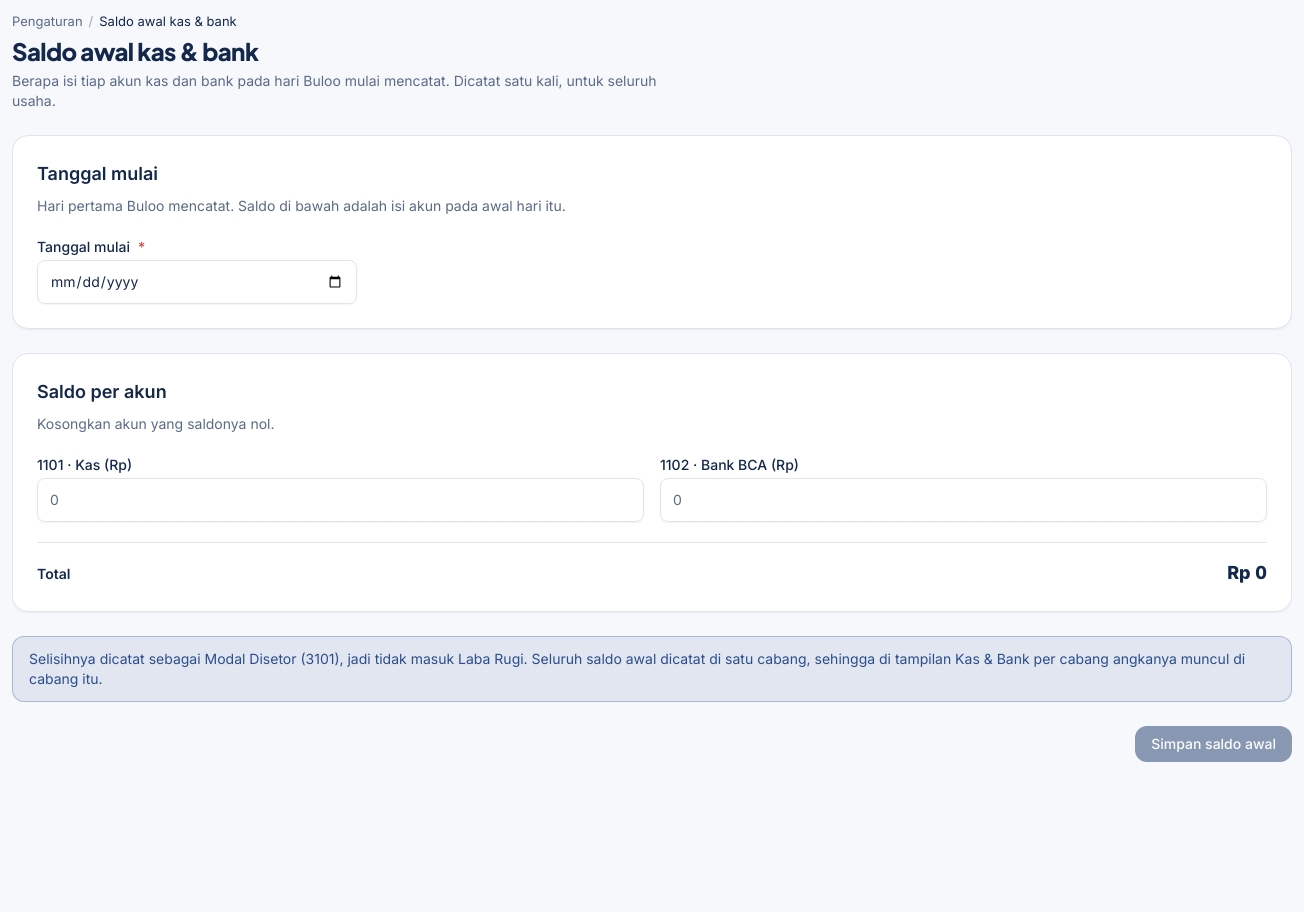
Test: CashBankOpeningScreen › strips anything but digits and one decimal point, keeping two decimals
The image size is (1304, 912).
Type "Rp 1.5a00" into the field labelled "1101 · Kas (Rp)" at point(340, 500), box top-left (37, 478), bottom-right (644, 522)
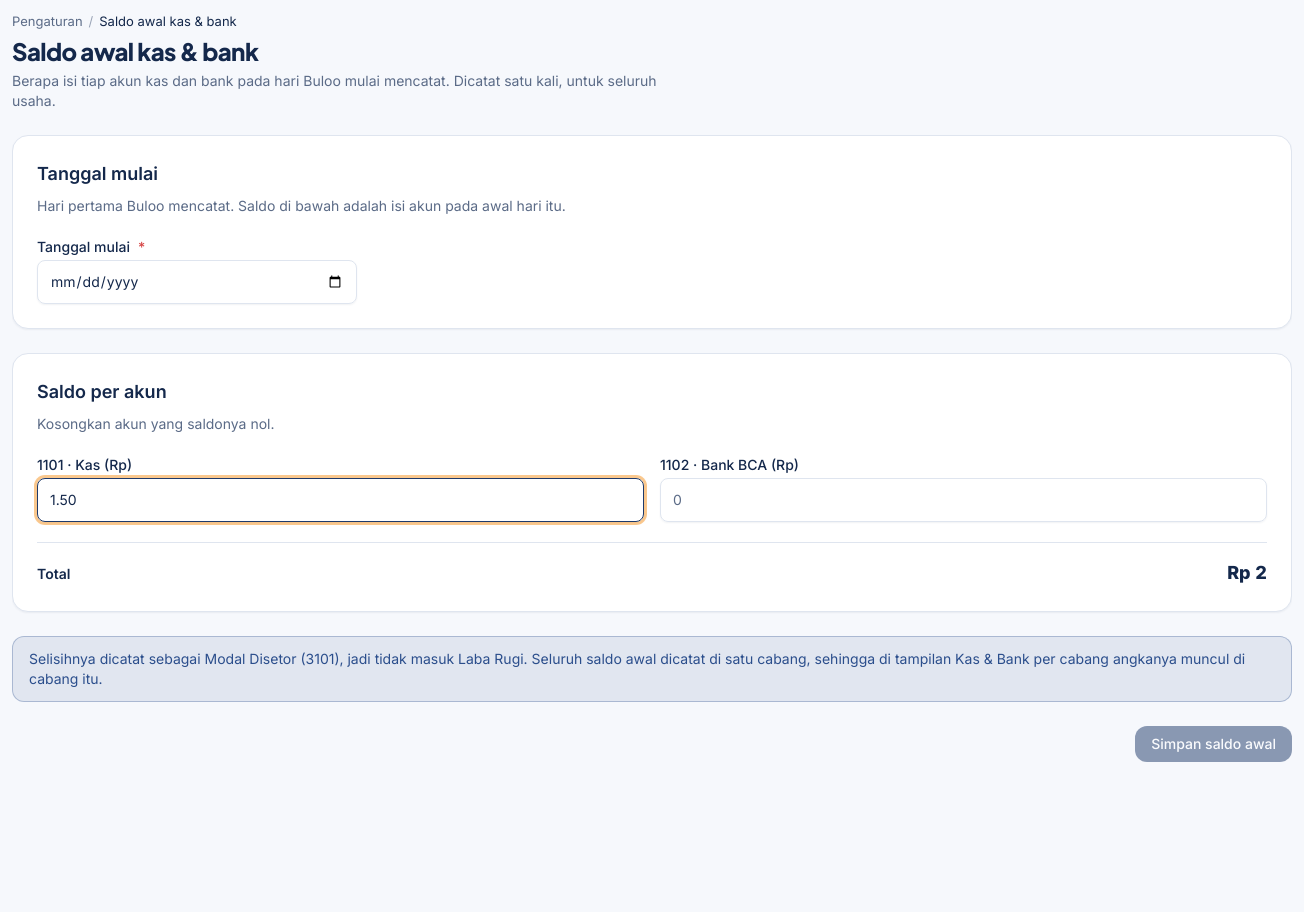
Now the field labelled "1101 · Kas (Rp)" holds "1.50", box top-left (37, 478), bottom-right (644, 522)
